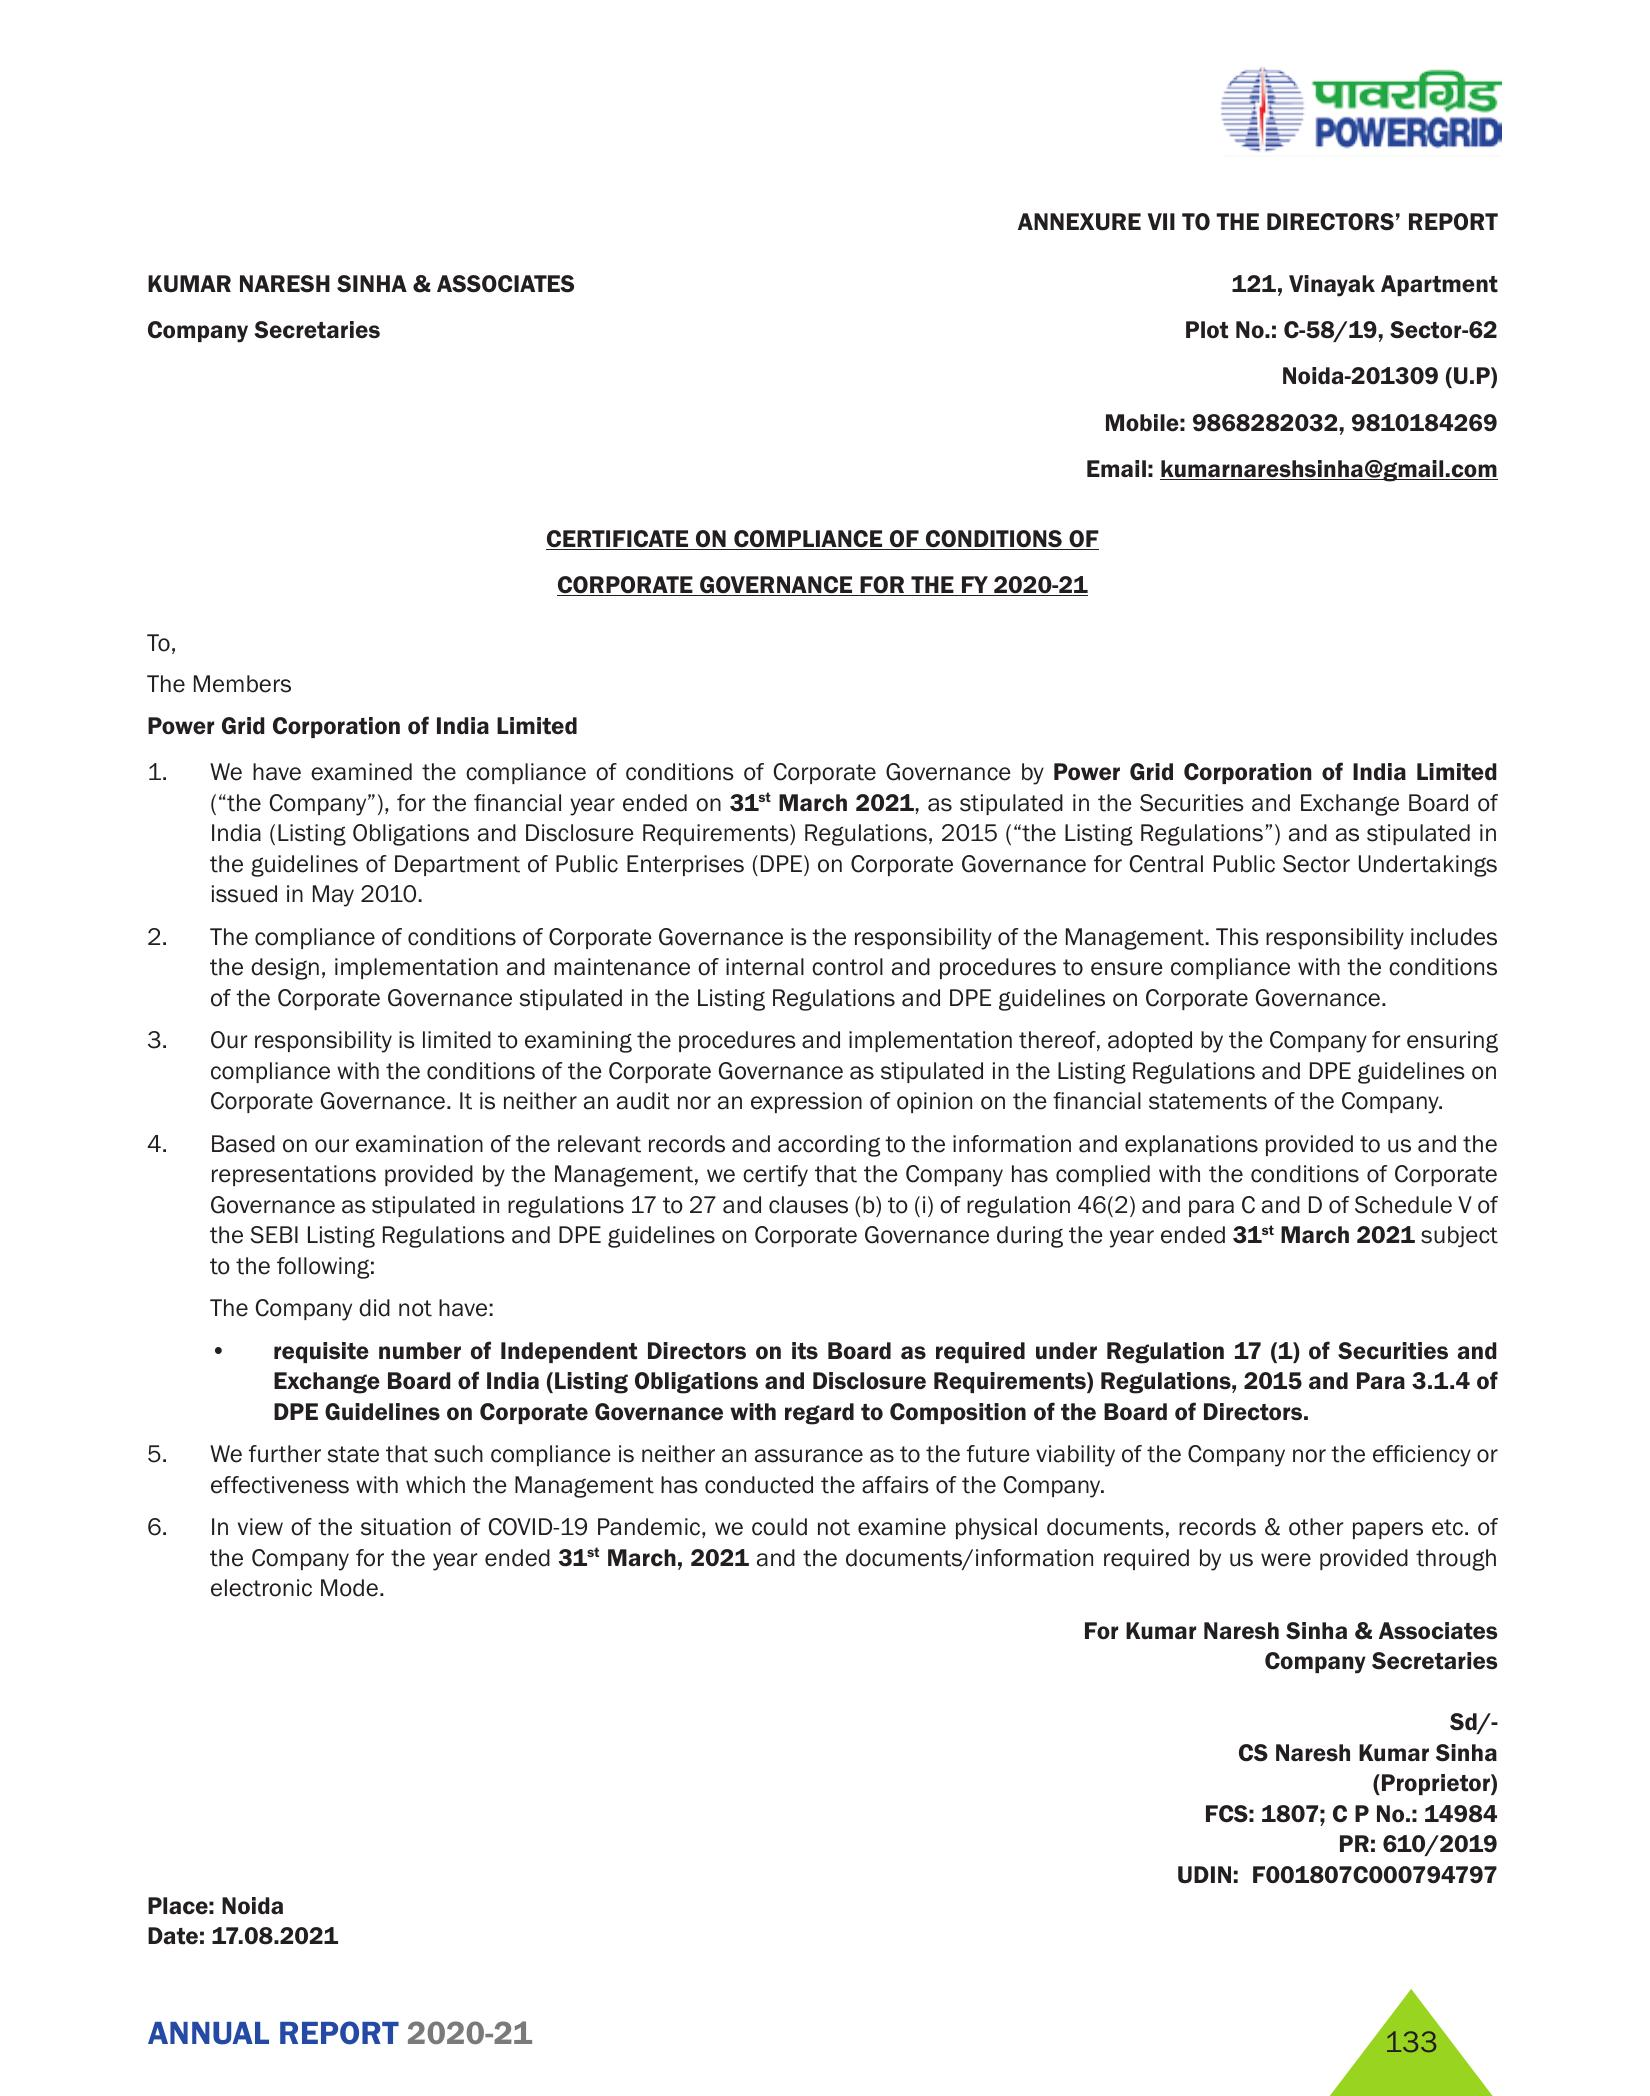Footer: (0, 1969, 1650, 2096)
Header: (0, 0, 1650, 176)
